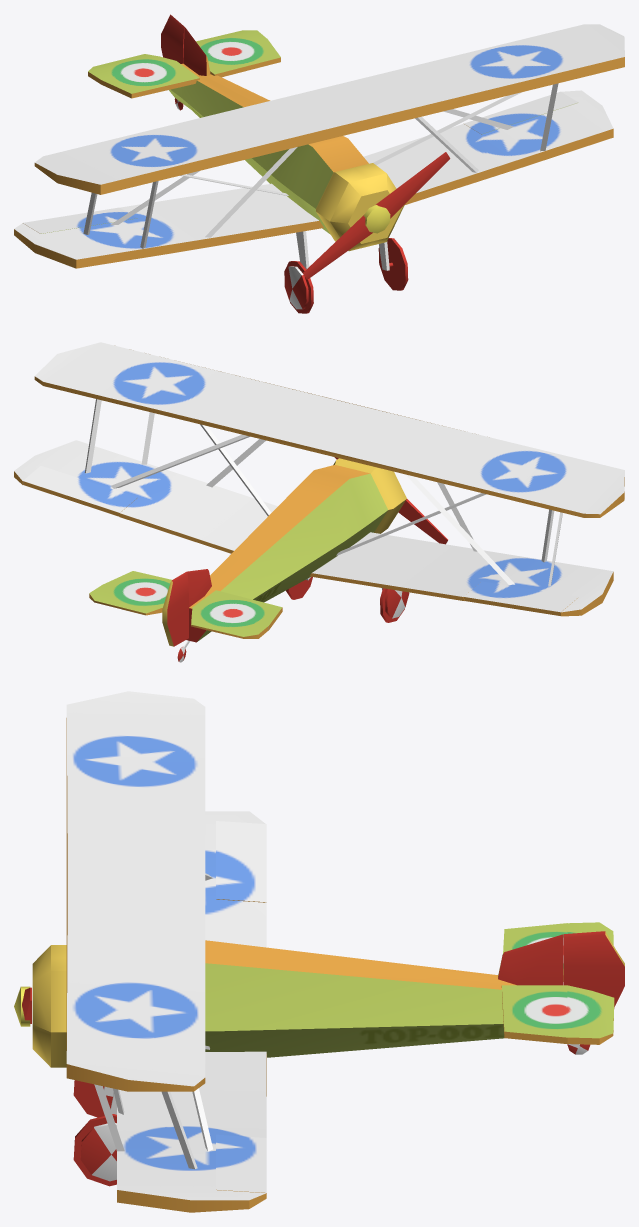
File: Biplano.fbx
The picture shows the model from 3 angles, top to bottom: view 1: azimuth 30°, elevation 25°; view 2: azimuth 150°, elevation 25°; view 3: azimuth 270°, elevation 25°; orthographic projection. The views are drawn at different scales.
Parts seen in each view (by area): view 1: Modello, Elica, Ruota, Flap_coda, FlapSinistro, FlapDestro, Timone; view 2: Modello, Flap_coda, FlapSinistro, FlapDestro, Timone, Ruota, Elica; view 3: Modello, FlapDestro, Timone, Ruota, Flap_coda, FlapSinistro.
Boxes of the visible parts, left/top/right/bottom form: Modello: left=14, top=24, right=624, bottom=270; Elica: left=302, top=152, right=450, bottom=279; Ruota: left=284, top=238, right=408, bottom=313; Flap_coda: left=88, top=30, right=266, bottom=83; FlapSinistro: left=463, top=91, right=578, bottom=134; FlapDestro: left=23, top=207, right=137, bottom=233; Timone: left=161, top=14, right=184, bottom=63; Modello: left=14, top=342, right=624, bottom=642; Flap_coda: left=89, top=585, right=268, bottom=638; FlapSinistro: left=23, top=466, right=137, bottom=516; FlapDestro: left=464, top=581, right=578, bottom=615; Timone: left=162, top=572, right=188, bottom=646; Ruota: left=286, top=577, right=409, bottom=622; Elica: left=334, top=457, right=447, bottom=544; Modello: left=32, top=691, right=567, bottom=1212; FlapDestro: left=216, top=821, right=266, bottom=902; Timone: left=564, top=931, right=624, bottom=1006; Ruota: left=73, top=1080, right=116, bottom=1186; Flap_coda: left=567, top=922, right=614, bottom=1044; FlapSinistro: left=216, top=1134, right=266, bottom=1193.
Bounding box in the file's own units: 918 × 296 × 609.
